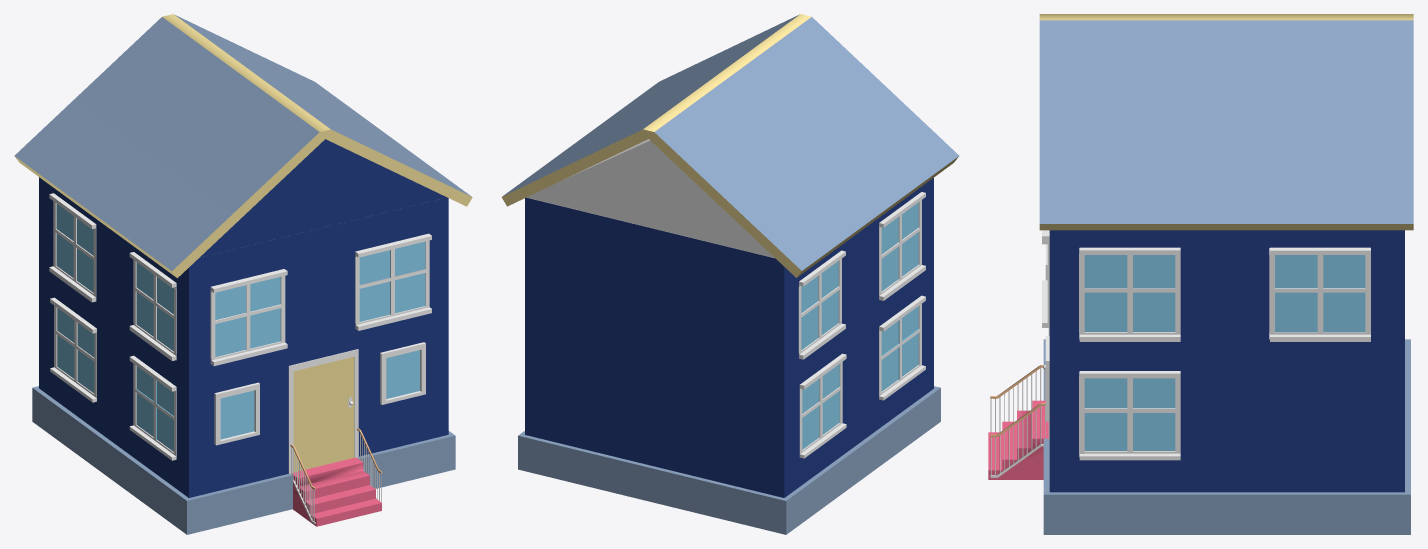
File: house.fbx
3 views of the same model, side by side, from view 1: azimuth 30°, elevation 25°; view 2: azimuth 150°, elevation 25°; view 3: azimuth 270°, elevation 25° (orthographic). The views are drawn at different scales.
Parts seen in each view (by area): view 1: house_LOD0; view 2: house_LOD0; view 3: house_LOD0.
Part boxes in pixels (<box>): house_LOD0: <box>14,14,472,534</box>; house_LOD0: <box>501,14,959,534</box>; house_LOD0: <box>988,14,1413,534</box>.
Size of what is drawn, in the model's own units: 229 by 271 by 237.
